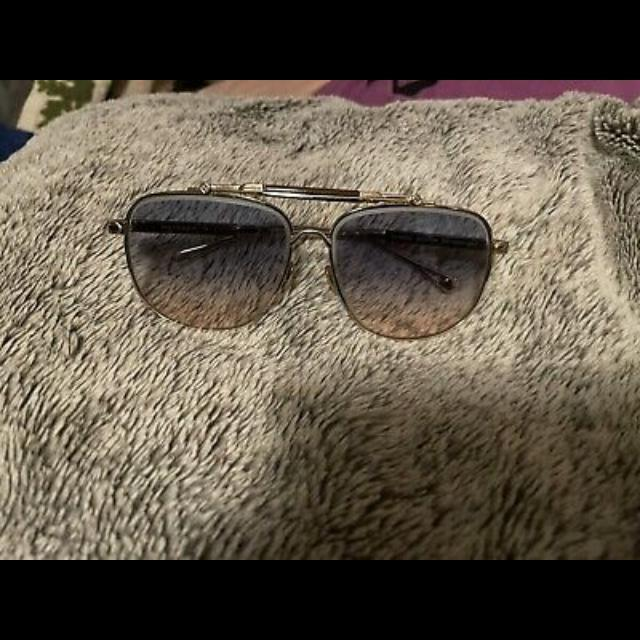sunglasses: (102, 177, 508, 339)
